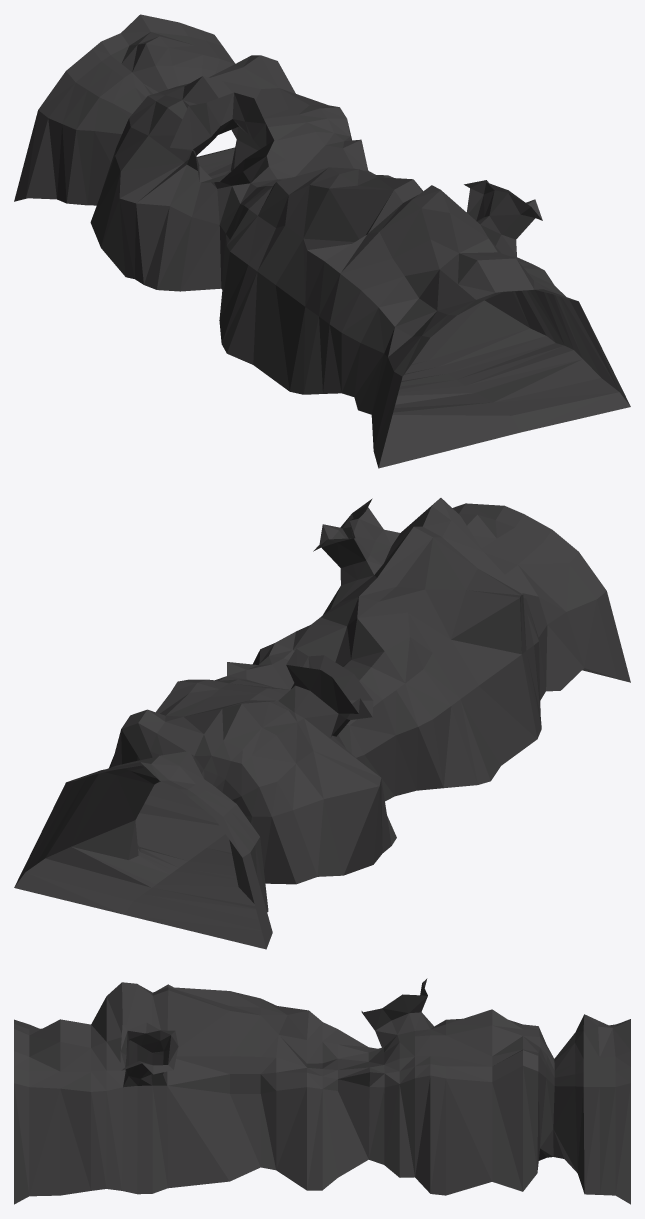
The model's file is Cave_4_LOD_2.fbx.
The picture shows the model from 3 angles, top to bottom: view 1: azimuth 30°, elevation 25°; view 2: azimuth 150°, elevation 25°; view 3: azimuth 270°, elevation 25°; orthographic projection. The views are drawn at different scales.
Visible parts, largest first — view 1: polySurface1217; view 2: polySurface1217; view 3: polySurface1217.
Boxes of the visible parts, x1,y1,x2,y2 form: polySurface1217: (14, 14, 630, 468); polySurface1217: (14, 498, 630, 949); polySurface1217: (14, 978, 630, 1204).
Size of the model in its own units: 8.18 by 6.09 by 20.
